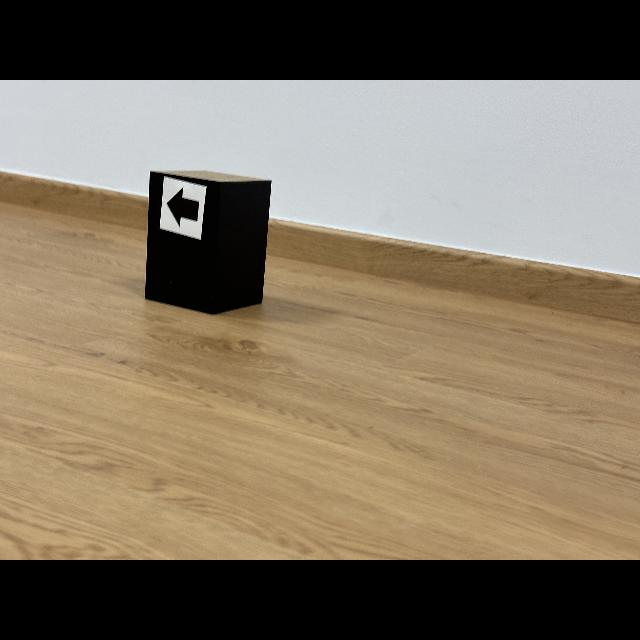LEFT: (166, 189, 199, 226)
